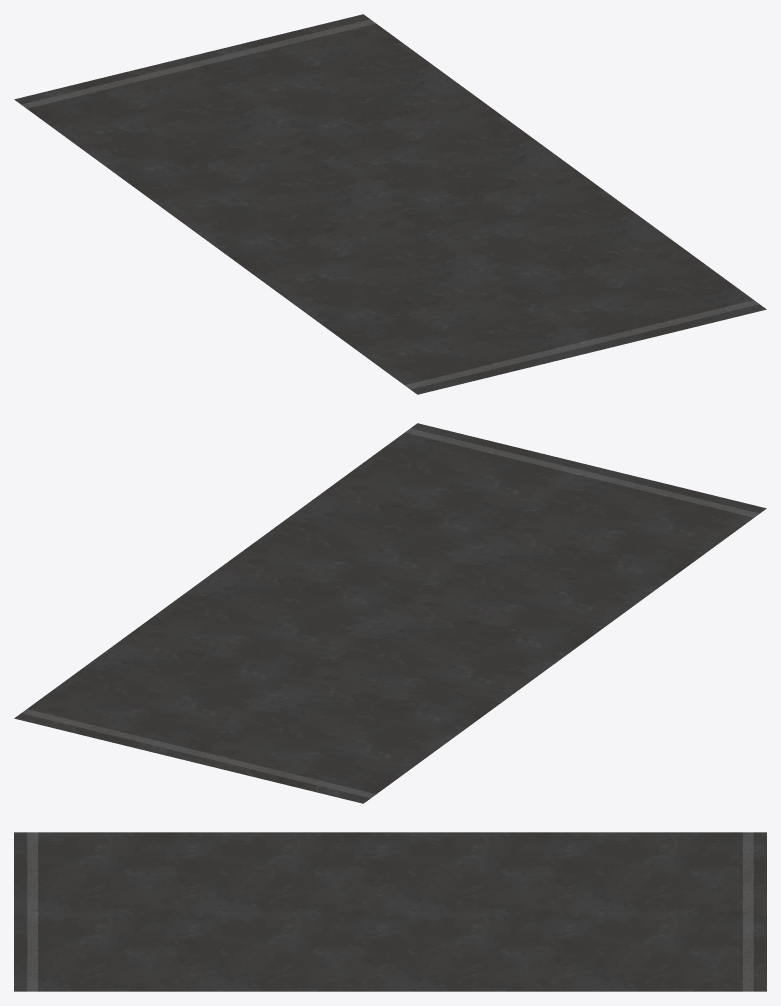
File: S_Street4LaneNoSidewalk.gltf
The picture shows the model from 3 angles, top to bottom: view 1: azimuth 30°, elevation 25°; view 2: azimuth 150°, elevation 25°; view 3: azimuth 270°, elevation 25°; orthographic projection. The views are drawn at different scales.
Visible parts, largest first — view 1: Plane_004-col; view 2: Plane_004-col; view 3: Plane_004-col.
Part boxes in pixels (box(x1,y1,x2,y2)): Plane_004-col: box(14, 14, 766, 394); Plane_004-col: box(14, 423, 766, 803); Plane_004-col: box(14, 832, 766, 991).
Bounding box in the file's own units: 6 × 0.002 × 12.
2 materials, 2 textured.
